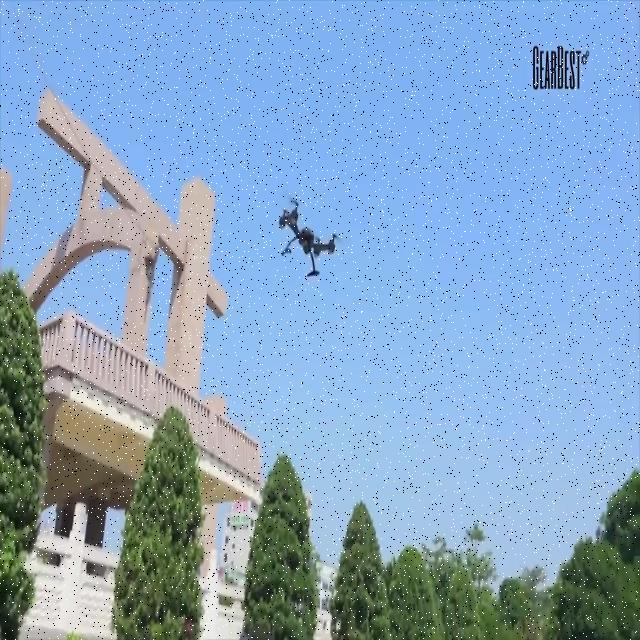UAV: (279, 196, 343, 276)
